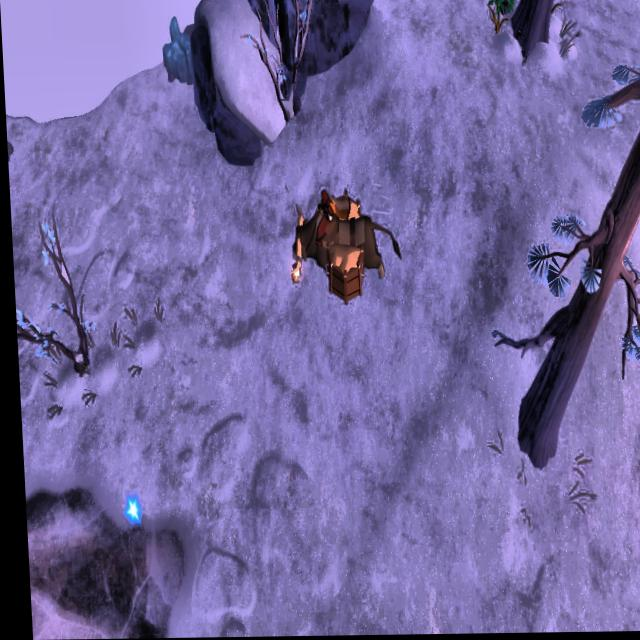fiber_t3: (484, 0, 517, 26)
rock_t4: (159, 19, 199, 88)
